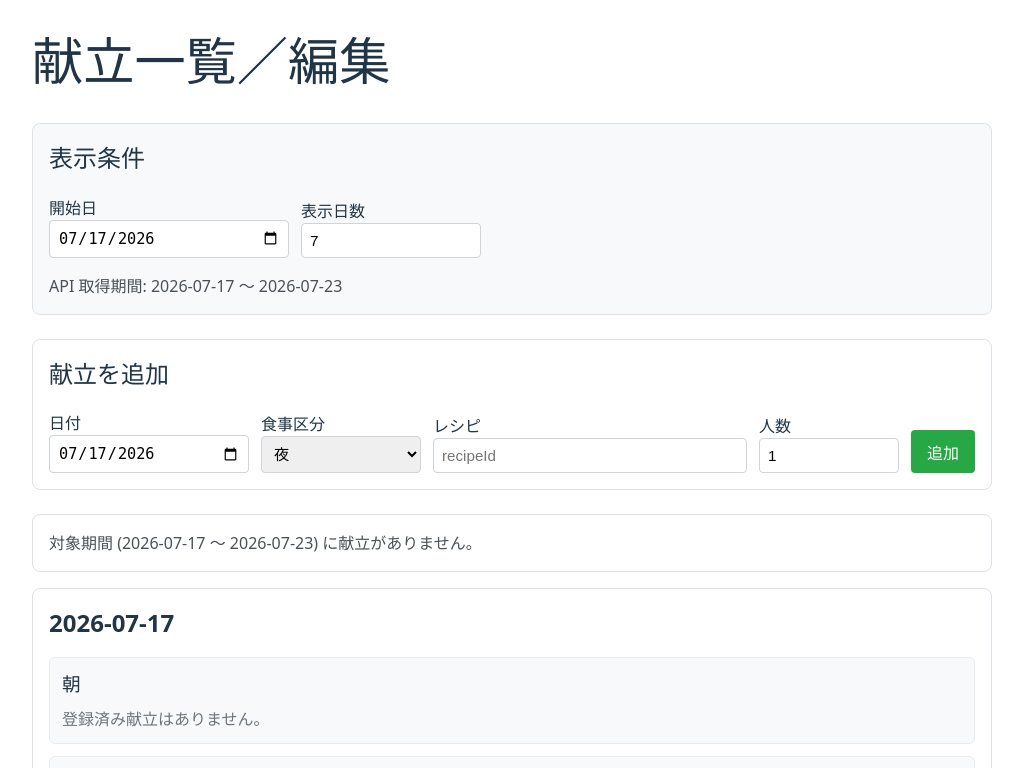
Scenario: MenusPage › 開始日と表示日数を取得期間へ反映する
The width and height of the screenshot is (1024, 768).
In the date field labelled "開始日": (169, 238) [49, 220, 289, 258], type "2026-08-01"
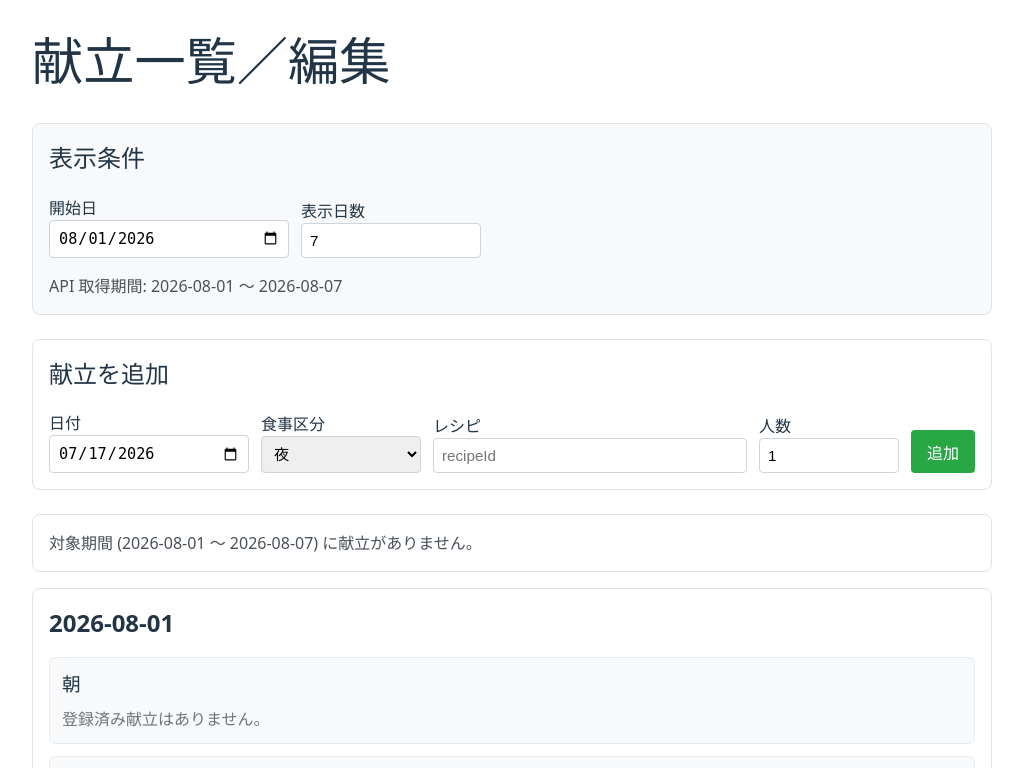
Replace the text in the number field labelled "表示日数" with "3": (391, 240) [301, 222, 481, 258]
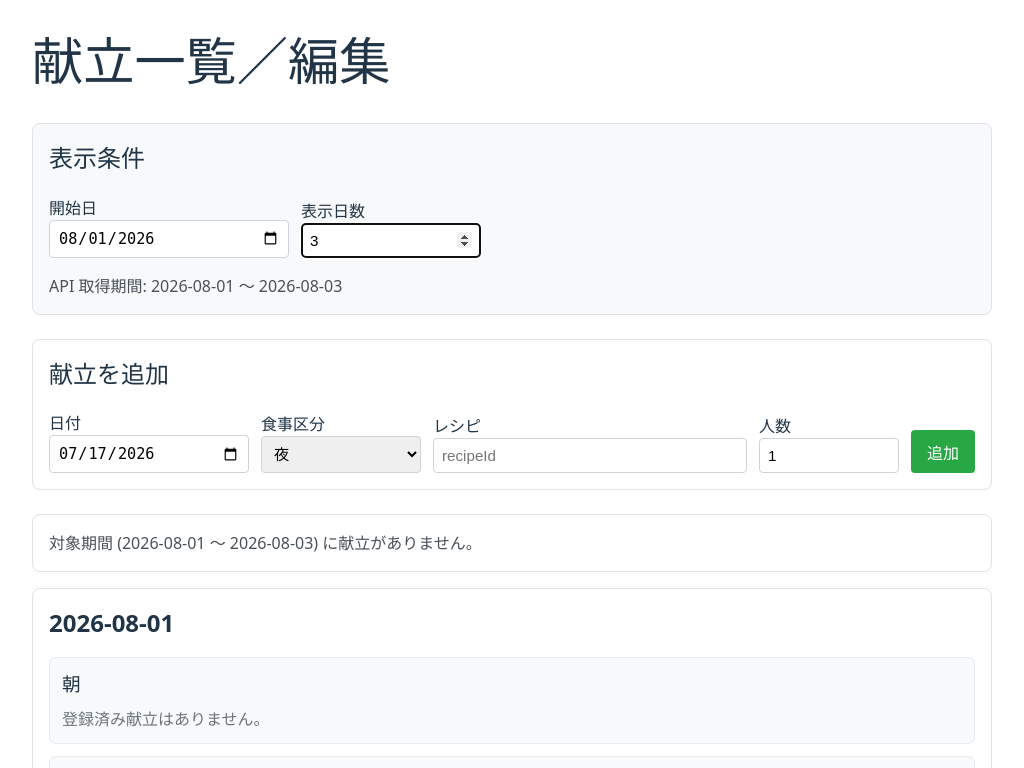
Result: the text "API 取得期間: 2026-08-01 〜 2026-08-03" is shown at [49, 274, 342, 296]
